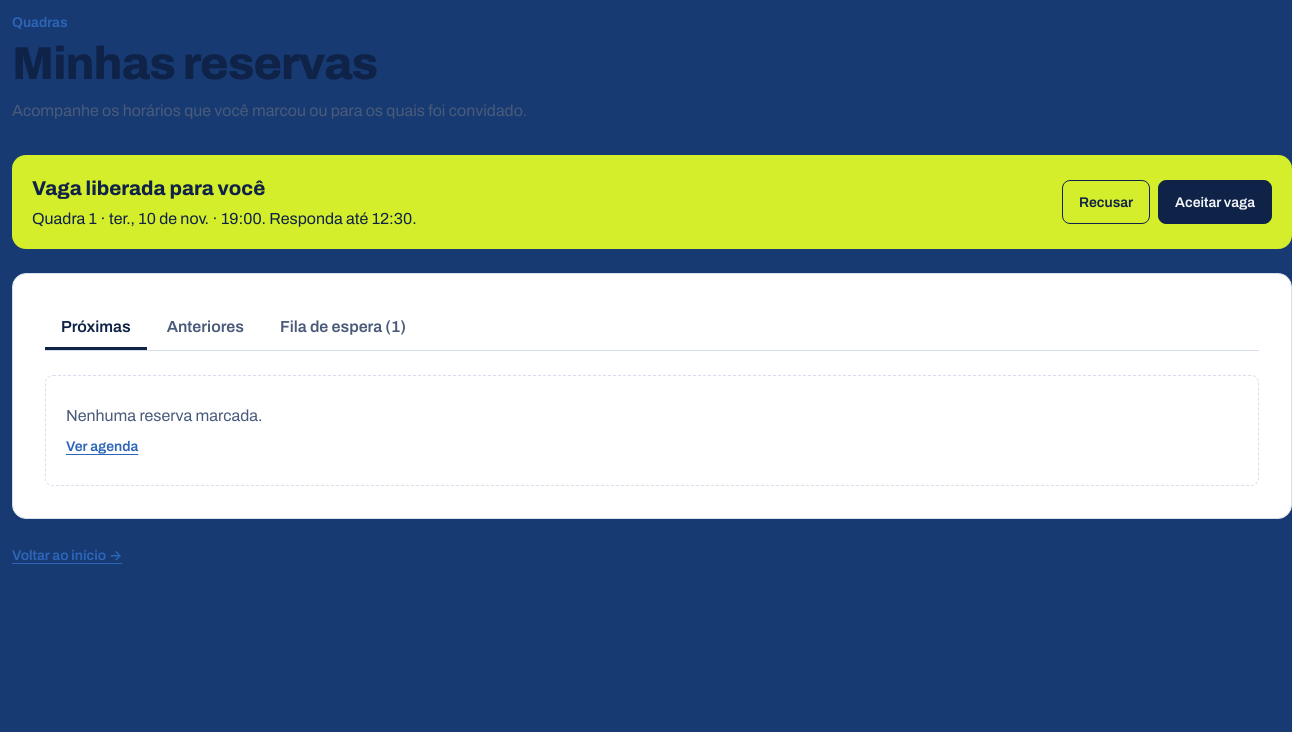
Test case: OfferBanner › em Minhas reservas, a vaga aceita aparece em Próximas
Expected: the text "Nenhuma reserva marcada." is shown, 66,404 -> 262,428
What coordinates should you click on to do the following:
click the button "Aceitar vaga"
I would click on:
 (1215, 202)
Its box is 1158,180 -> 1272,224.
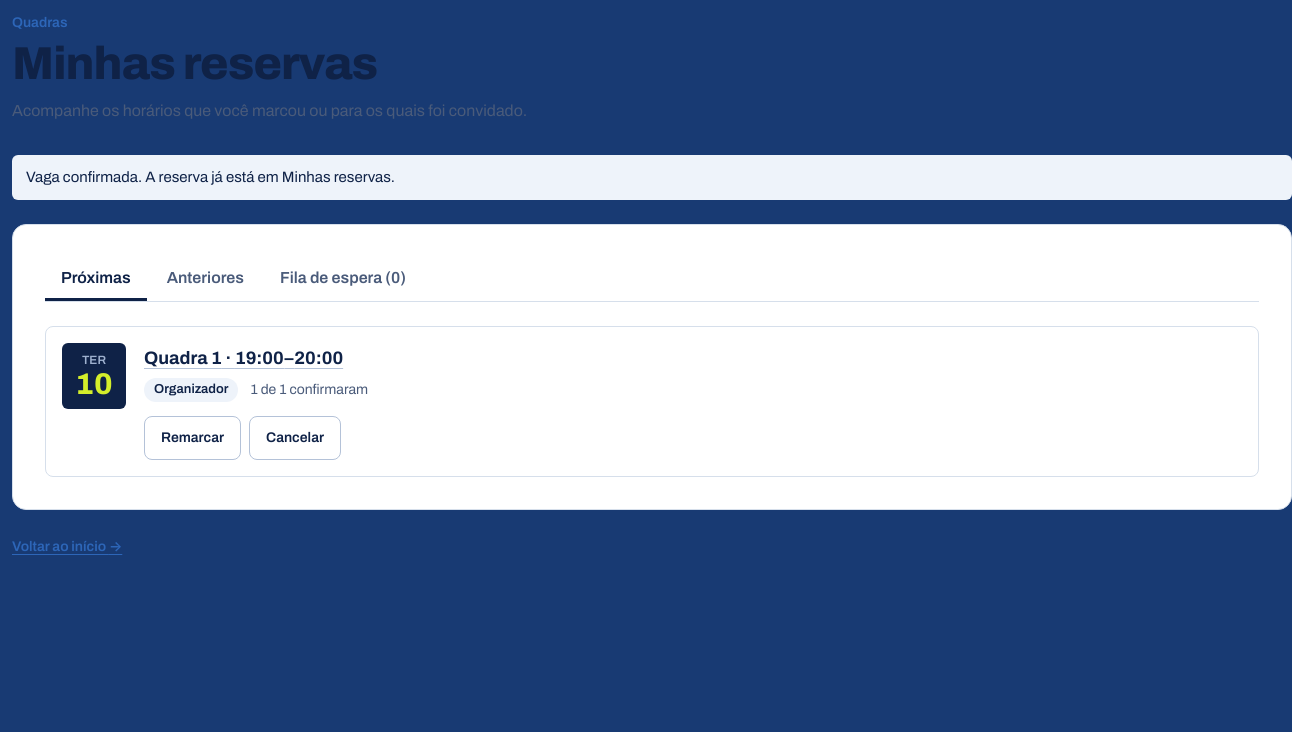
Expected: the text "Organizador" is shown, 144,378 -> 238,402
Expected: the heading "Vaga liberada" is gone
